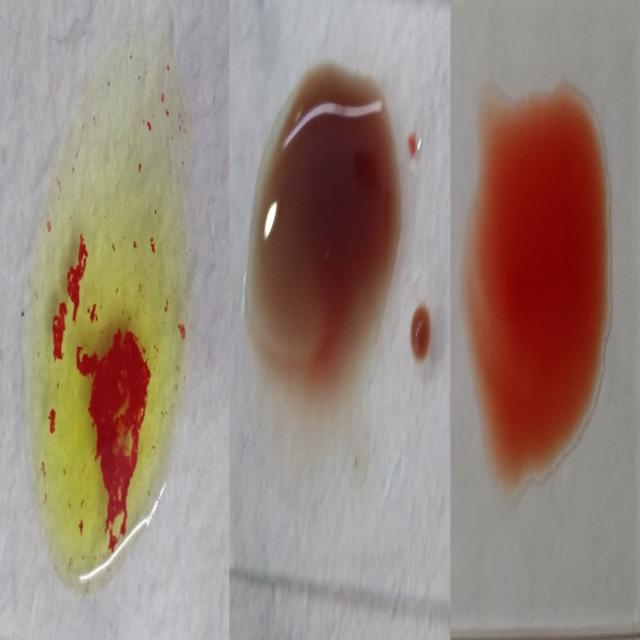B: (33, 75, 184, 572)
